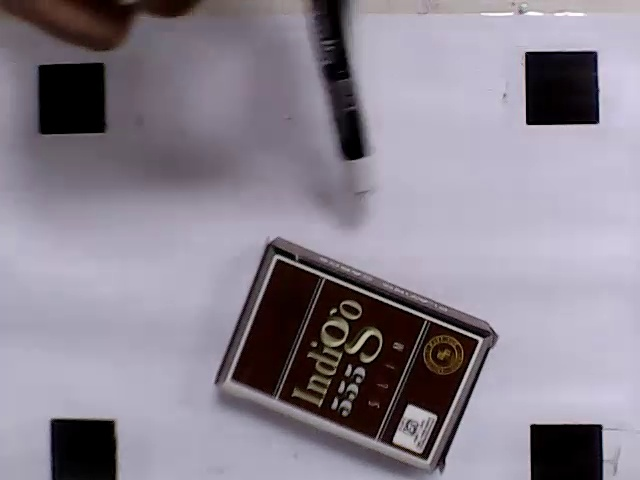BEX: (227, 258, 482, 460)
